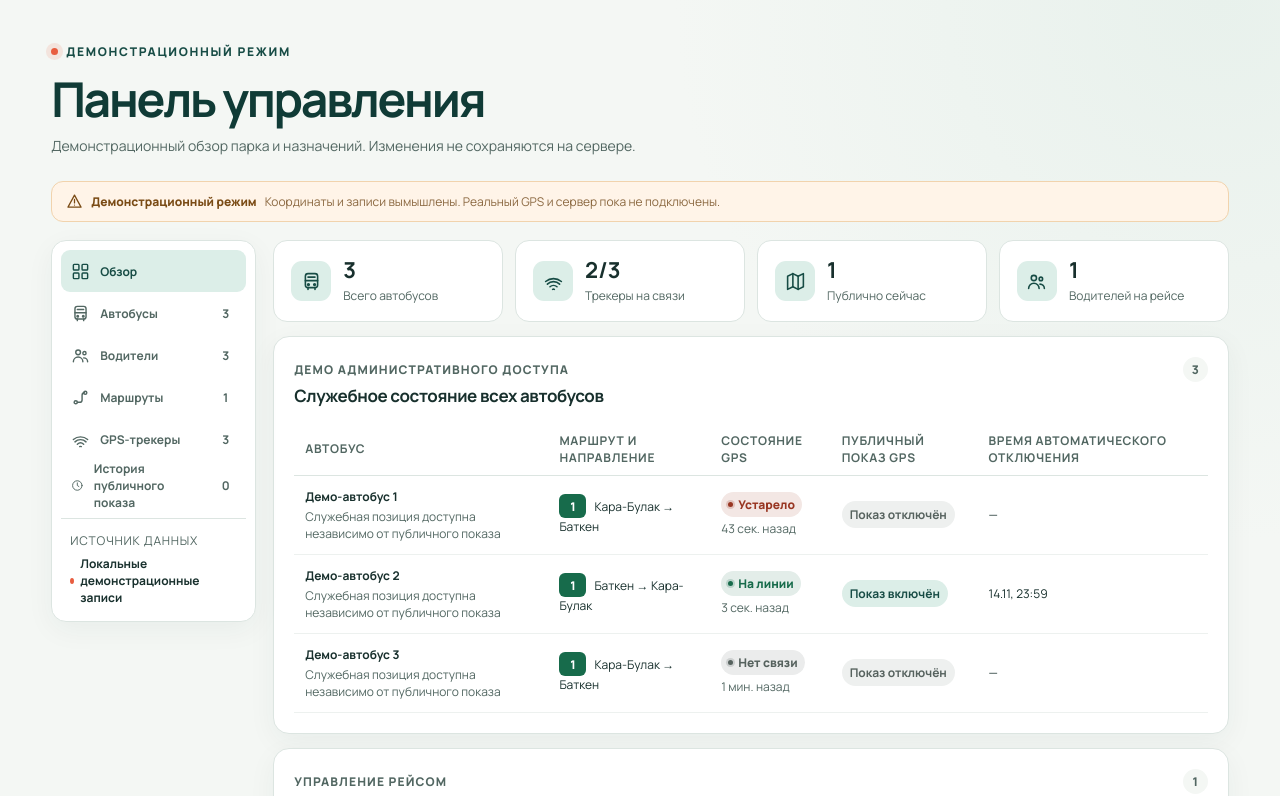
Test: Admin demo panel › adds a neutral demo bus through the service layer
The width and height of the screenshot is (1280, 796).
Click the button "Автобусы 3". click: (154, 314)
box: [61, 292, 246, 334]
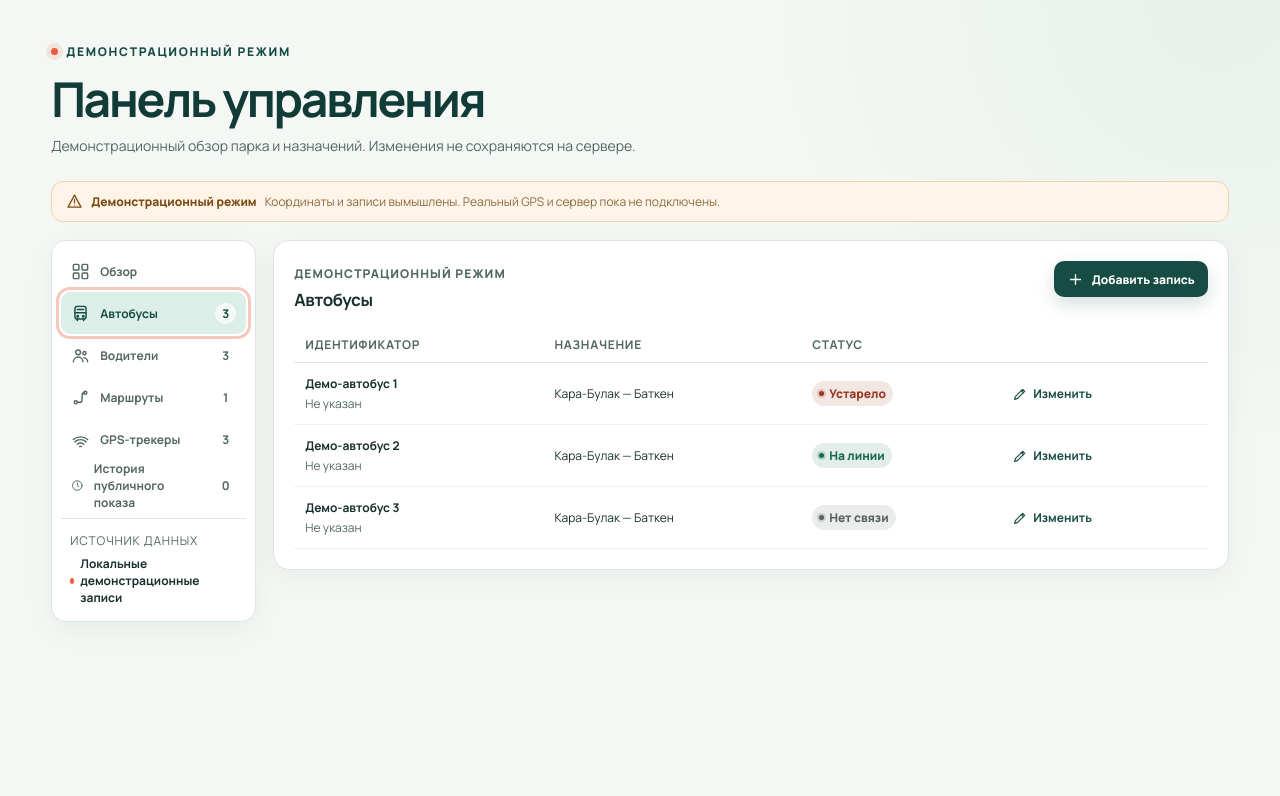
Click the button "Добавить запись". click: (1131, 280)
box: [1054, 262, 1208, 298]
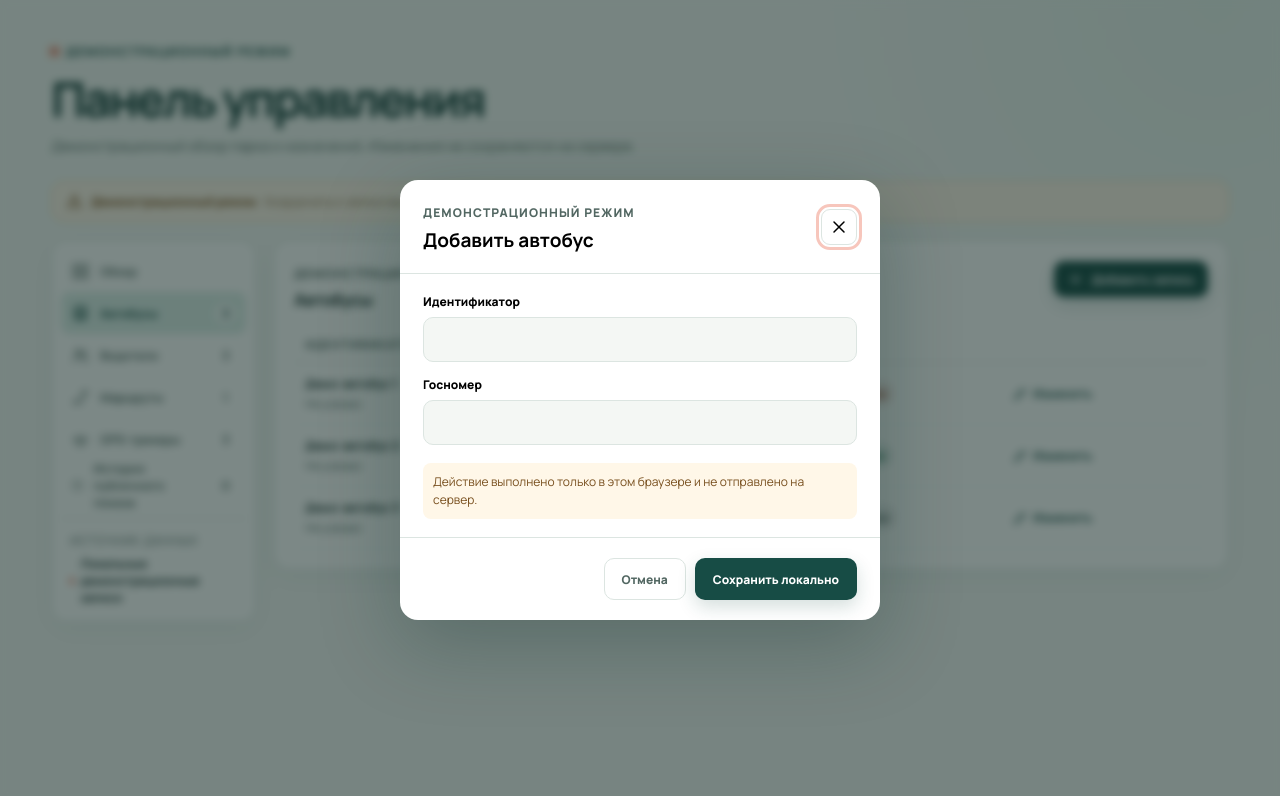
Type "Демо-автобус 4" into the field labelled "Идентификатор". click: (640, 340)
box: [423, 317, 857, 362]
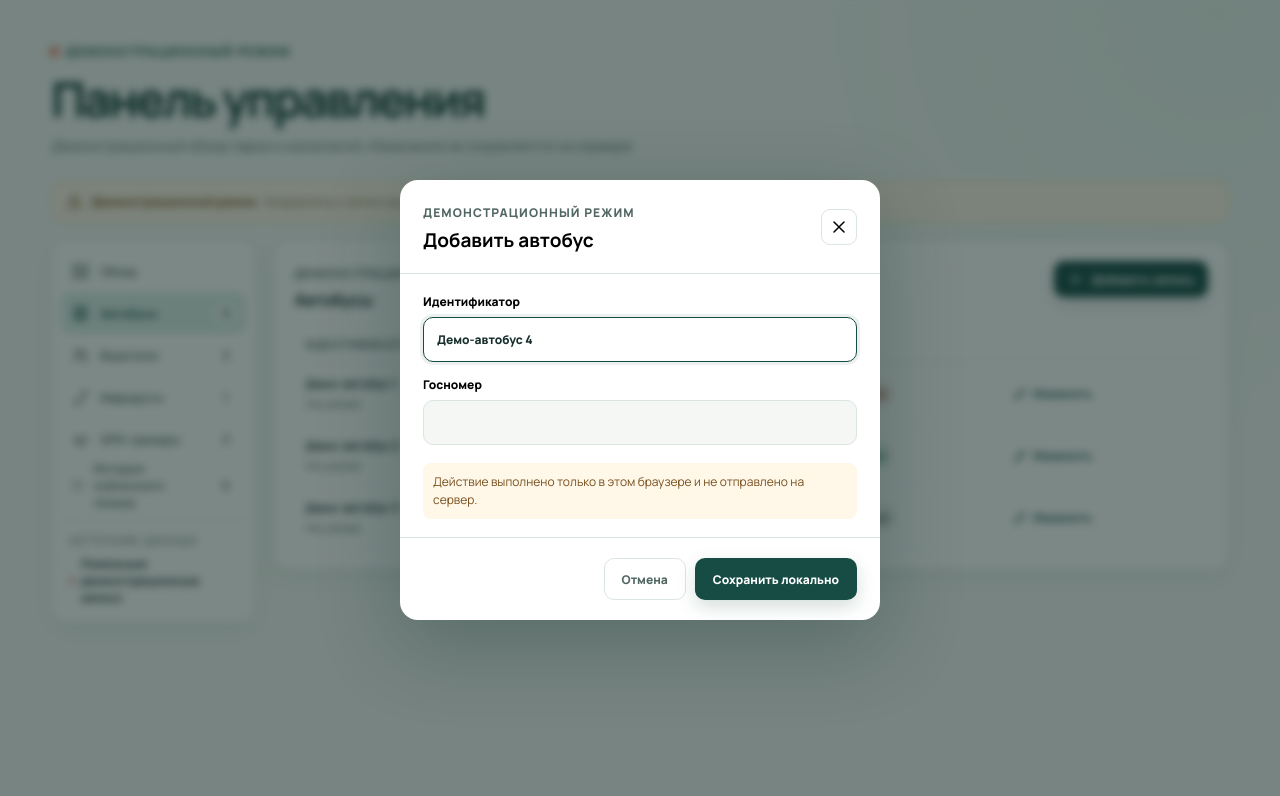
Type "Не указан" into the field labelled "Госномер". click: (640, 422)
box: [423, 400, 857, 445]
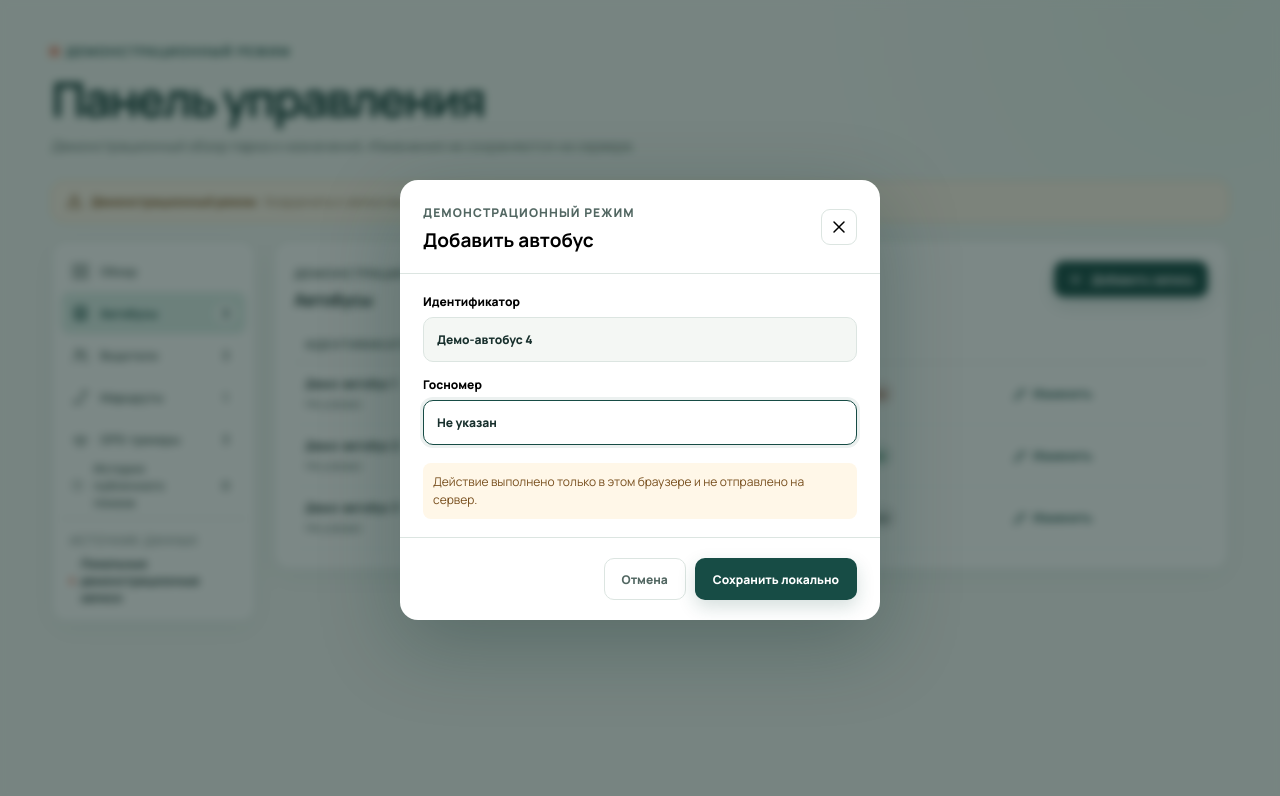
Click the button "Сохранить локально". click: (776, 579)
box: [695, 558, 857, 600]
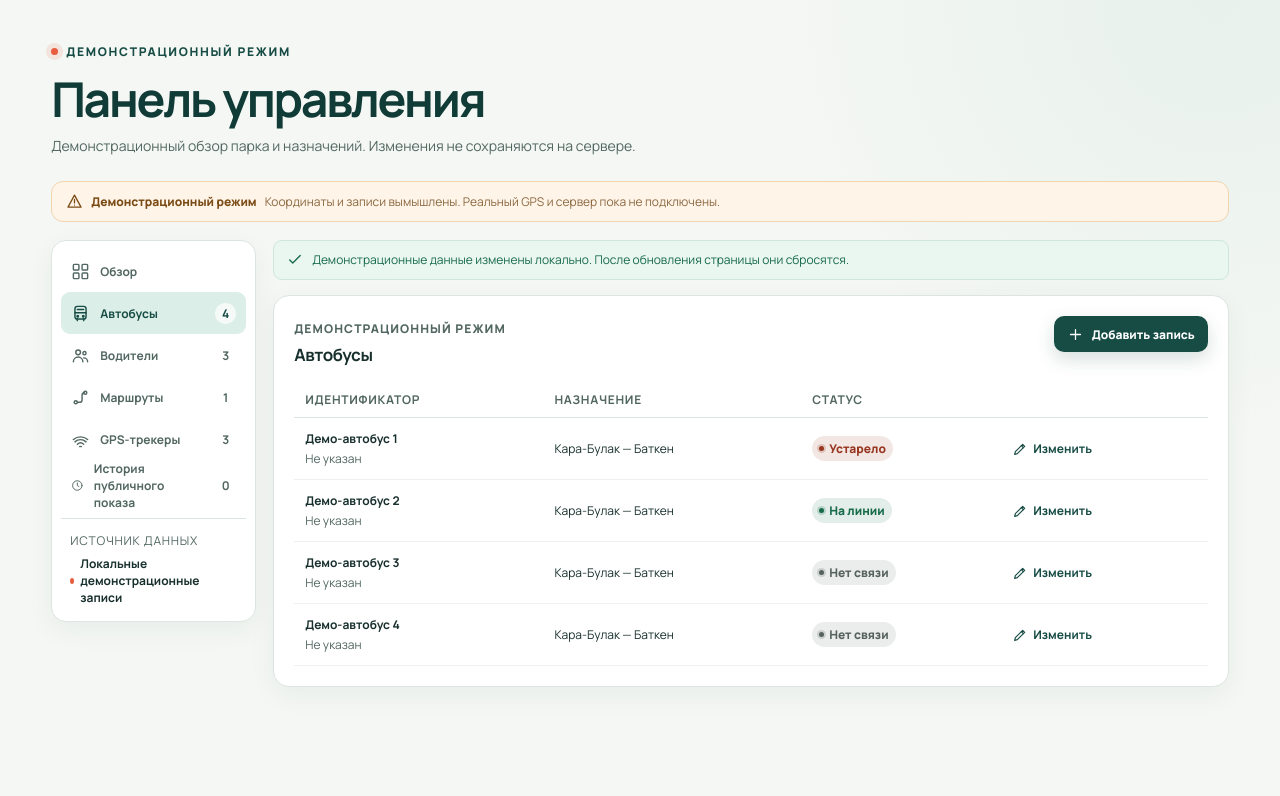
Expected: the text "Демо-автобус 4" is shown, [305, 616, 400, 634]
Expected: the text "После обновления страницы" is shown, [312, 252, 849, 268]
